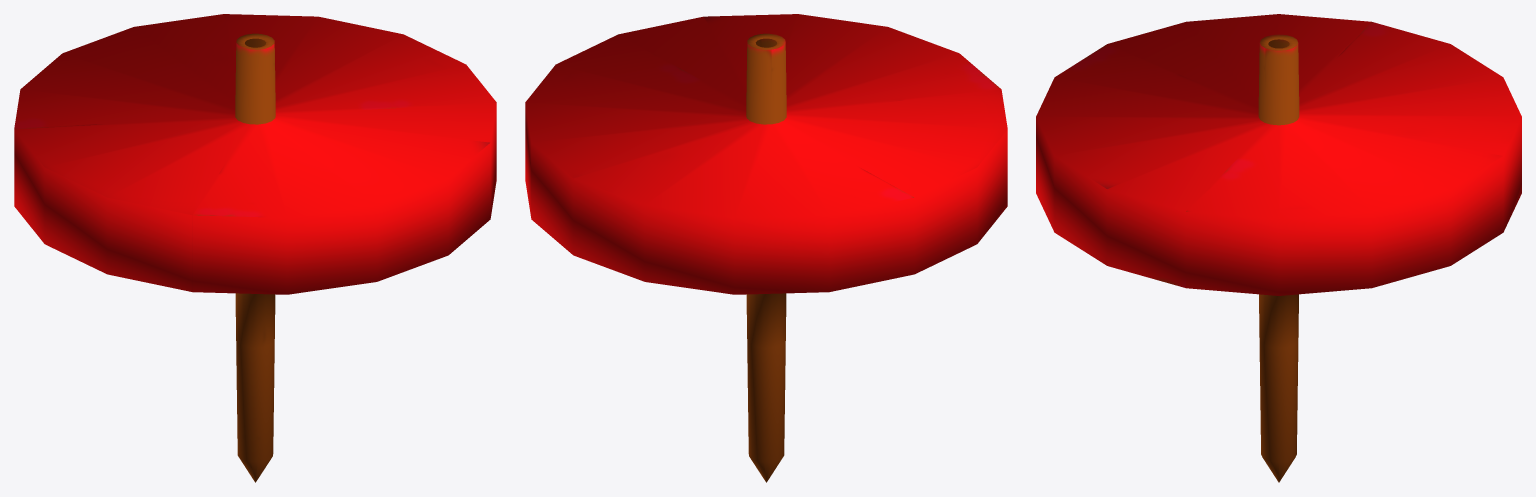
The model's file is SpininngTopCompleteAddFix.fbx.
3 views of the same model, side by side, from view 1: azimuth 30°, elevation 25°; view 2: azimuth 150°, elevation 25°; view 3: azimuth 270°, elevation 25° (orthographic).
Visible parts, largest first — view 1: Vert.001; view 2: Vert.001; view 3: Vert.001.
Boxes of the visible parts, x1,y1,x2,y2 form: Vert.001: (14, 14, 496, 482); Vert.001: (525, 14, 1007, 482); Vert.001: (1036, 14, 1521, 482).
Size of the model in its own units: 100 by 100 by 100.
